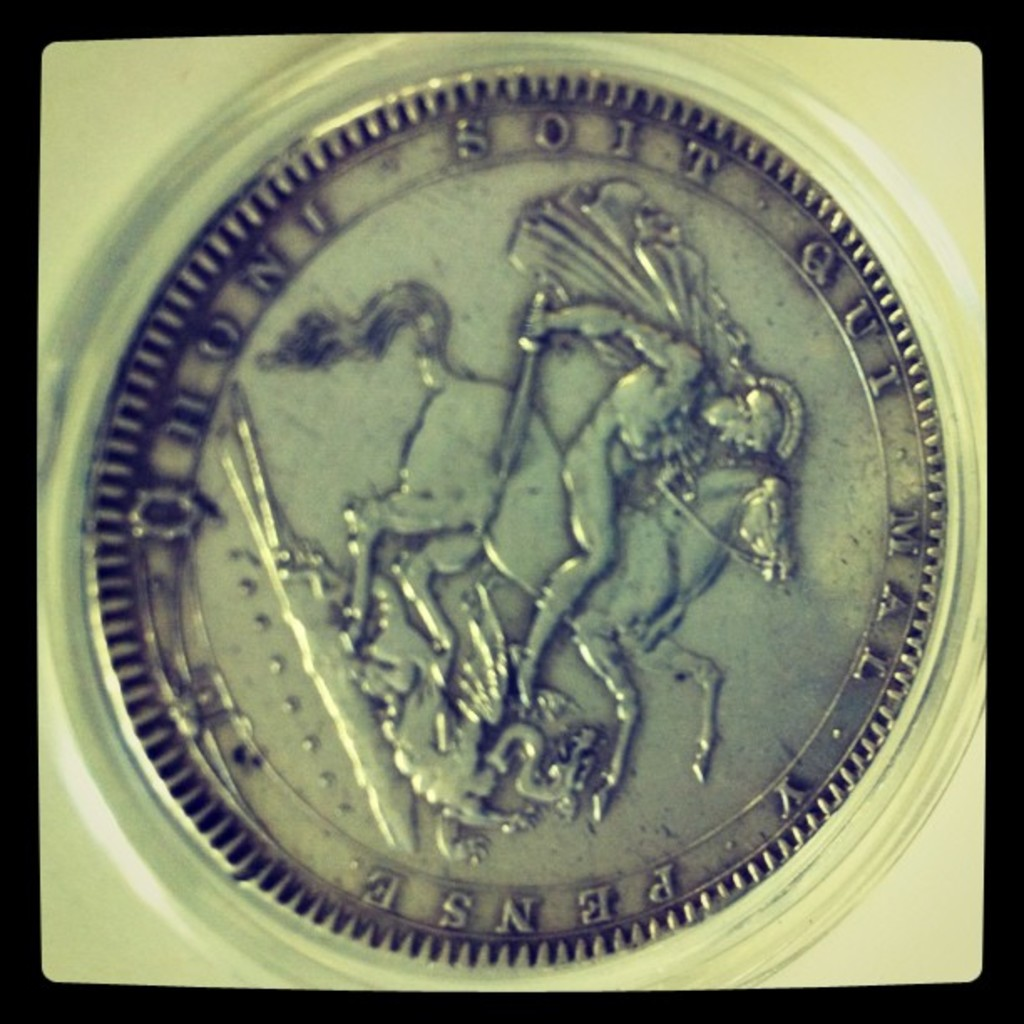Coin: (37, 33, 987, 989)
